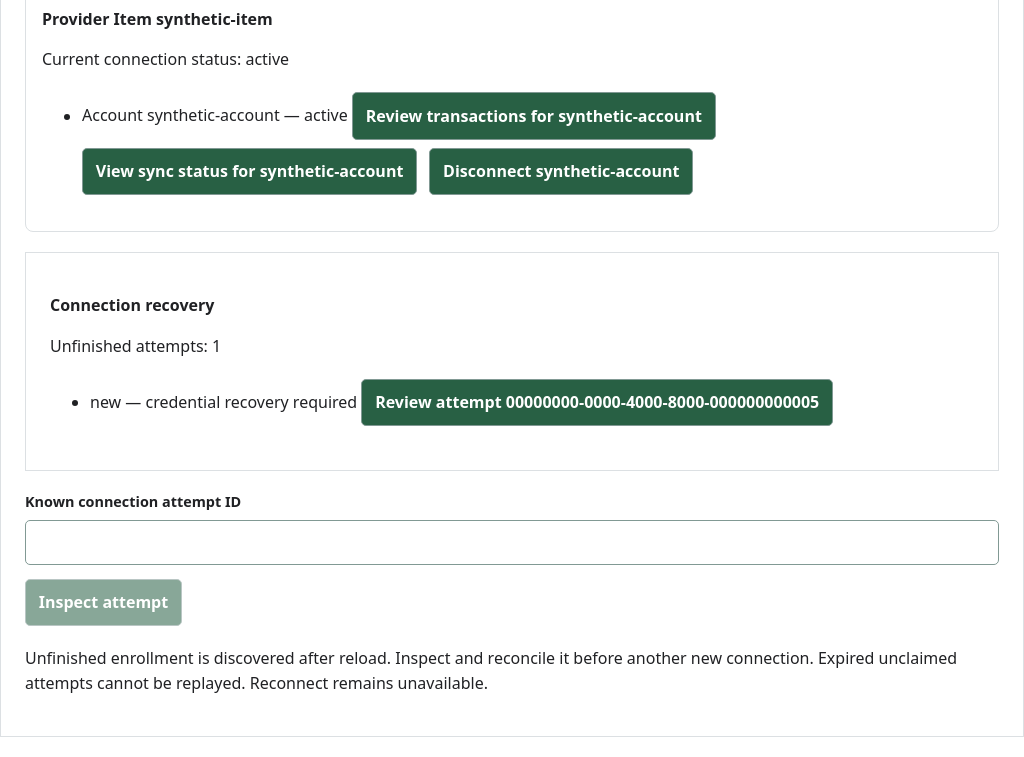
Test: TestConnectionsScopeAndRecovery discovers unfinished attempts after reload
(page scrolled)
Check: the text "Unfinished attempts: 1" is shown, box left=50, top=335, right=221, bottom=357
Click the button "Review attempt 00000000-0000-4000-8000-000000000005" at point(597, 403), box left=361, top=379, right=833, bottom=426
(page scrolled)
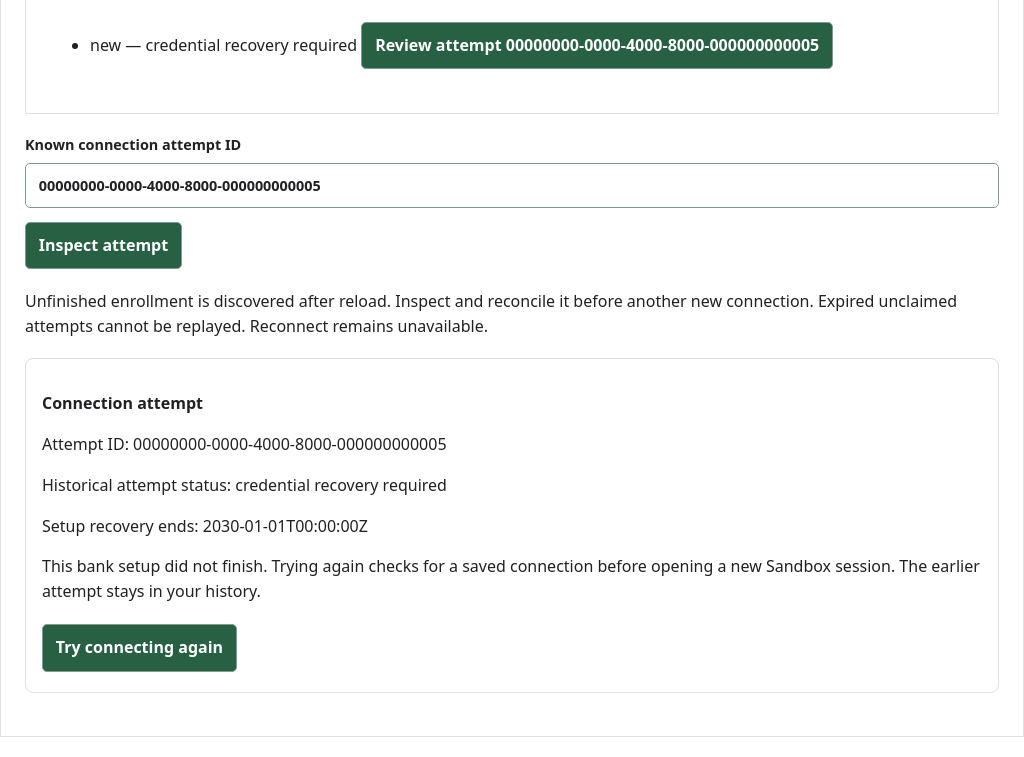
Check: the text "Historical attempt status: credential recovery required" is shown, box left=42, top=474, right=447, bottom=496
